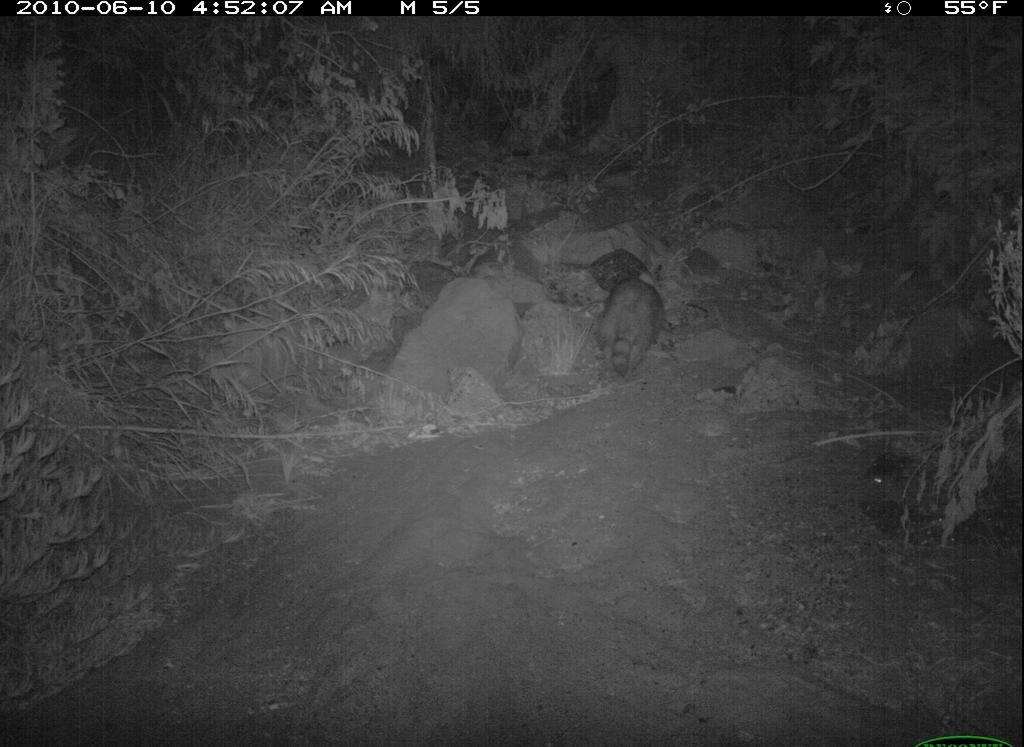raccoon: (587, 259, 666, 383)
